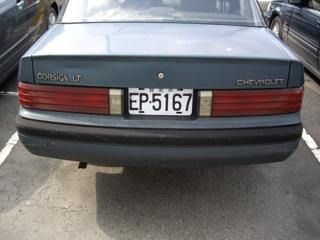plate: (127, 85, 194, 116)
